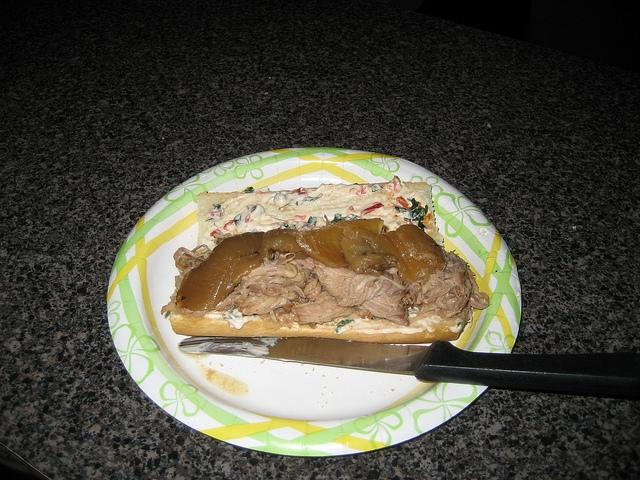onion: (296, 218, 385, 267), (396, 224, 446, 265), (341, 235, 388, 274), (258, 228, 303, 264), (173, 247, 198, 265), (192, 244, 208, 252), (274, 308, 284, 316)
